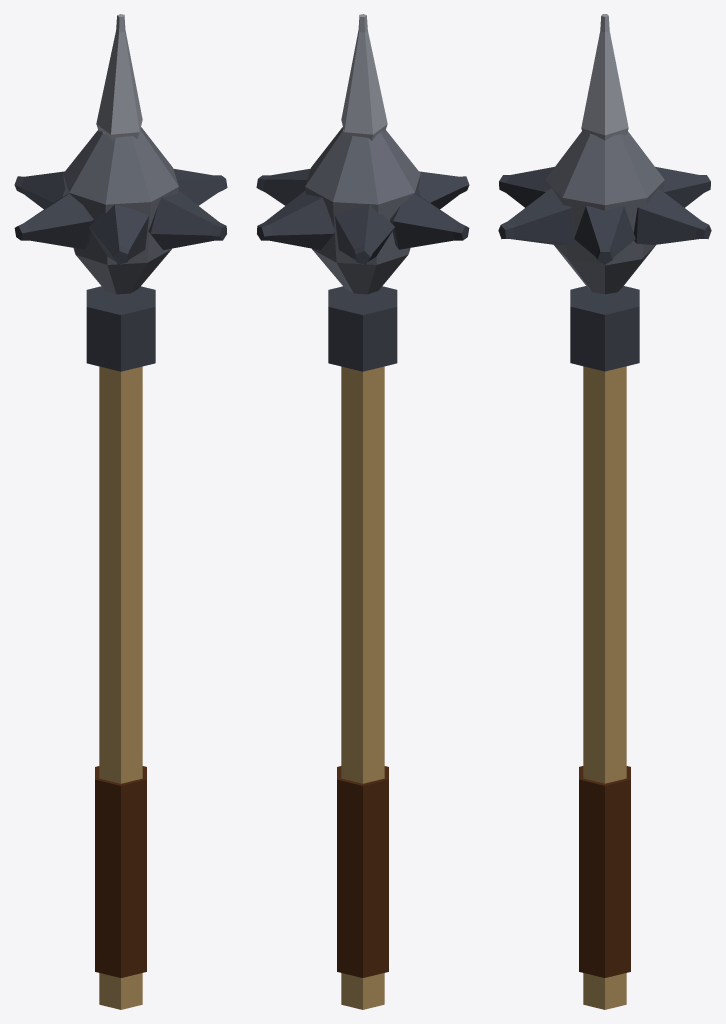
Rendered from wpn_melee_1h_3.glb.
The picture shows the model from 3 angles, left to right: view 1: azimuth 30°, elevation 25°; view 2: azimuth 150°, elevation 25°; view 3: azimuth 270°, elevation 25°; orthographic projection.
Visible parts, largest first — view 1: wpn_melee_1h_3; view 2: wpn_melee_1h_3; view 3: wpn_melee_1h_3.
Boxes of the visible parts, bbox=[...] form: wpn_melee_1h_3: bbox=[14, 14, 227, 1009]; wpn_melee_1h_3: bbox=[256, 14, 469, 1009]; wpn_melee_1h_3: bbox=[498, 14, 711, 1009].
Size of the model in its own units: 0.19 by 0.87 by 0.1709.
